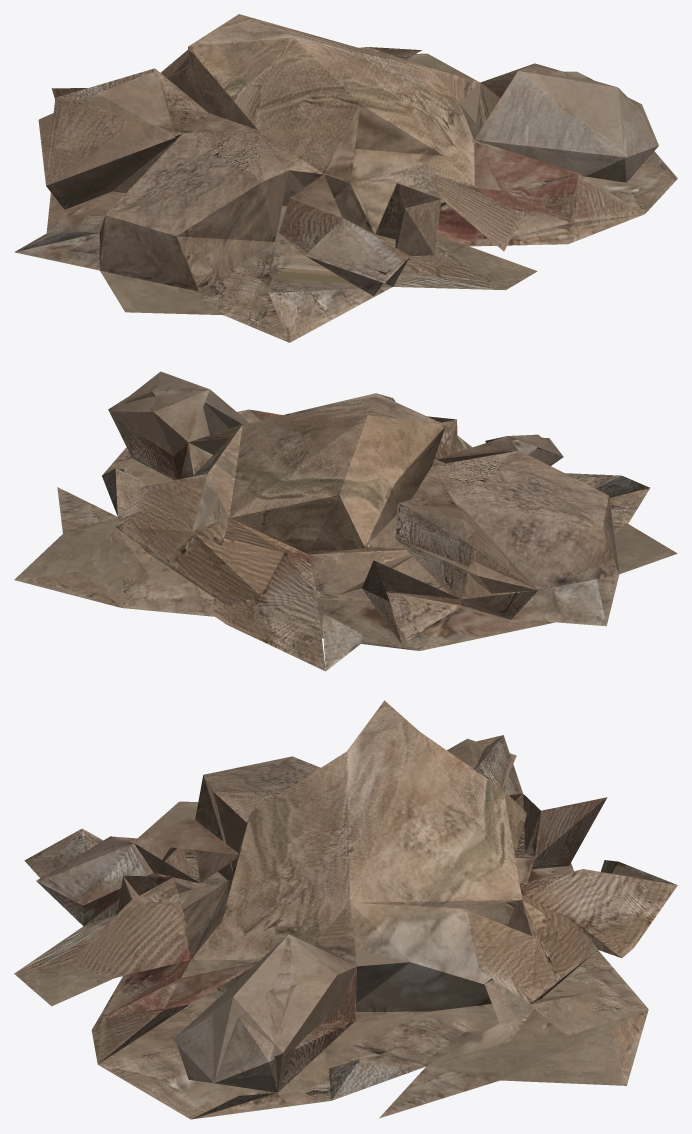
The model's file is trash.glb.
3 renders of one model, top to bottom at view 1: azimuth 30°, elevation 25°; view 2: azimuth 150°, elevation 25°; view 3: azimuth 270°, elevation 25°, orthographic. The views are drawn at different scales.
Size of the model in its own units: 1.81 by 0.5213 by 1.57.
1 material, 1 textured.
